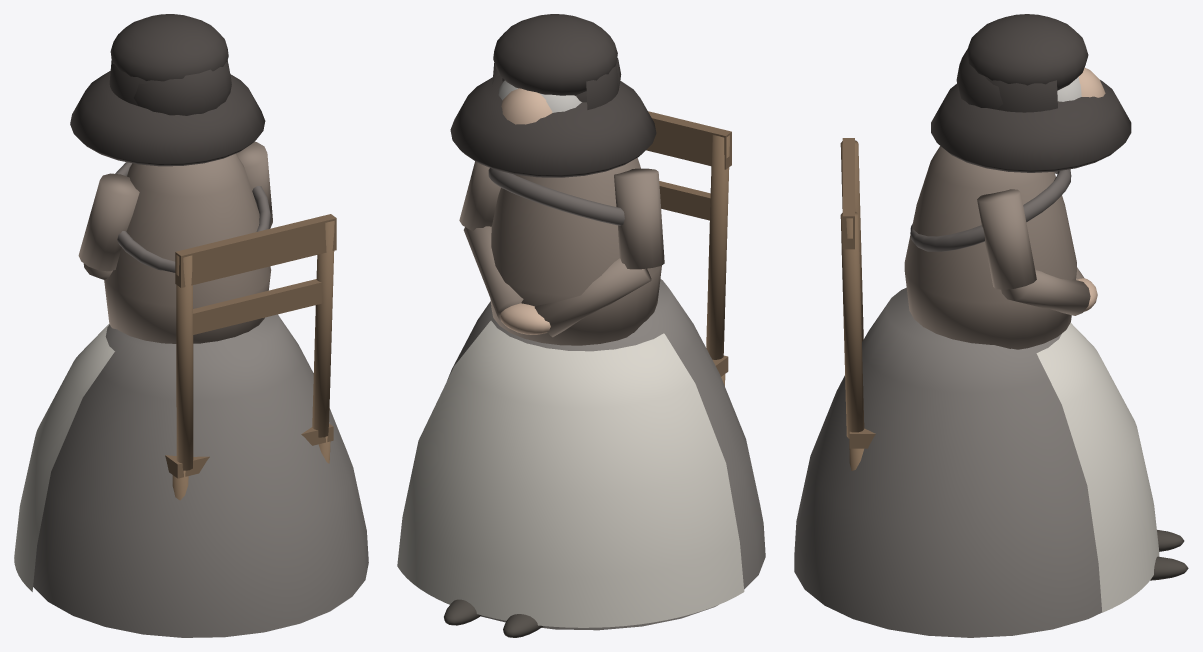
File: scan-fig43-mary-callinack-muse.glb
3 views of the same model, side by side, from view 1: azimuth 30°, elevation 25°; view 2: azimuth 150°, elevation 25°; view 3: azimuth 270°, elevation 25° (orthographic). The views are drawn at different scales.
Parts seen in each view (by area): view 1: Skirt, Torso, BonnetBrim, Apron, BonnetCap, BackRailTop, ArmLU, BackPostL, BackRailMid, BonnetPlug, BackPostR, ShawlBand (+3 smaller); view 2: Apron, Torso, BonnetBrim, Skirt, BonnetCap, ArmLU, BackPostL, ArmLF, BackRailTop, ShawlBand, ArmRF, ArmRU (+7 smaller); view 3: Skirt, Torso, Apron, BonnetBrim, BonnetCap, ArmRU, BackPostR, ArmRF, ShawlBand, Bonnet, BonnetPlug, BackRailTop (+3 smaller).
Boxes of the visible parts, x1=… form: Skirt: x1=33, y1=314, x2=368, y2=637; Torso: x1=104, y1=153, x2=271, y2=343; BonnetBrim: x1=70, y1=71, x2=265, y2=166; Apron: x1=14, y1=323, x2=114, y2=591; BonnetCap: x1=110, y1=14, x2=228, y2=81; BackRailTop: x1=175, y1=214, x2=336, y2=287; ArmLU: x1=78, y1=173, x2=139, y2=271; BackPostL: x1=176, y1=255, x2=193, y2=470; BackRailMid: x1=192, y1=279, x2=322, y2=334; BonnetPlug: x1=134, y1=63, x2=231, y2=115; BackPostR: x1=312, y1=221, x2=334, y2=437; ShawlBand: x1=115, y1=162, x2=270, y2=272; Apron: x1=397, y1=320, x2=744, y2=627; Torso: x1=490, y1=158, x2=661, y2=345; BonnetBrim: x1=450, y1=75, x2=656, y2=177; Skirt: x1=447, y1=279, x2=765, y2=630; BonnetCap: x1=493, y1=14, x2=617, y2=95; ArmLU: x1=614, y1=168, x2=664, y2=269; BackPostL: x1=706, y1=135, x2=729, y2=359; ArmLF: x1=534, y1=258, x2=651, y2=337; BackRailTop: x1=646, y1=111, x2=731, y2=169; ShawlBand: x1=488, y1=168, x2=624, y2=225; ArmRF: x1=463, y1=226, x2=523, y2=320; ArmRU: x1=459, y1=161, x2=500, y2=230; Skirt: x1=794, y1=287, x2=1102, y2=637; Torso: x1=904, y1=146, x2=1076, y2=349; Apron: x1=1036, y1=322, x2=1159, y2=612; BonnetBrim: x1=931, y1=80, x2=1131, y2=172; BonnetCap: x1=966, y1=14, x2=1088, y2=90; ArmRU: x1=977, y1=189, x2=1036, y2=289; BackPostR: x1=840, y1=212, x2=864, y2=438; ArmRF: x1=1001, y1=270, x2=1090, y2=315; ShawlBand: x1=910, y1=169, x2=1071, y2=251; Bonnet: x1=985, y1=76, x2=1057, y2=112; BonnetPlug: x1=956, y1=49, x2=1002, y2=109; BackRailTop: x1=842, y1=138, x2=854, y2=249.
Size of the model in its own units: 0.9068 by 1.49 by 0.9768.
